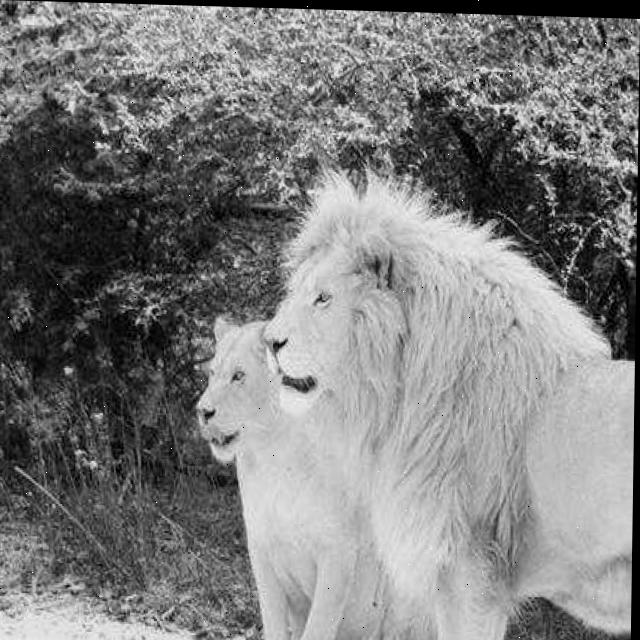Lion: (137, 144, 582, 640)
